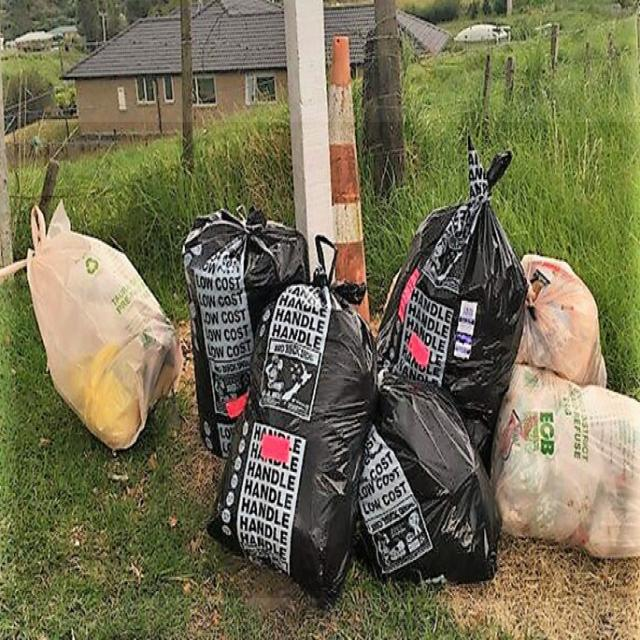dumping: (16, 122, 640, 598)
